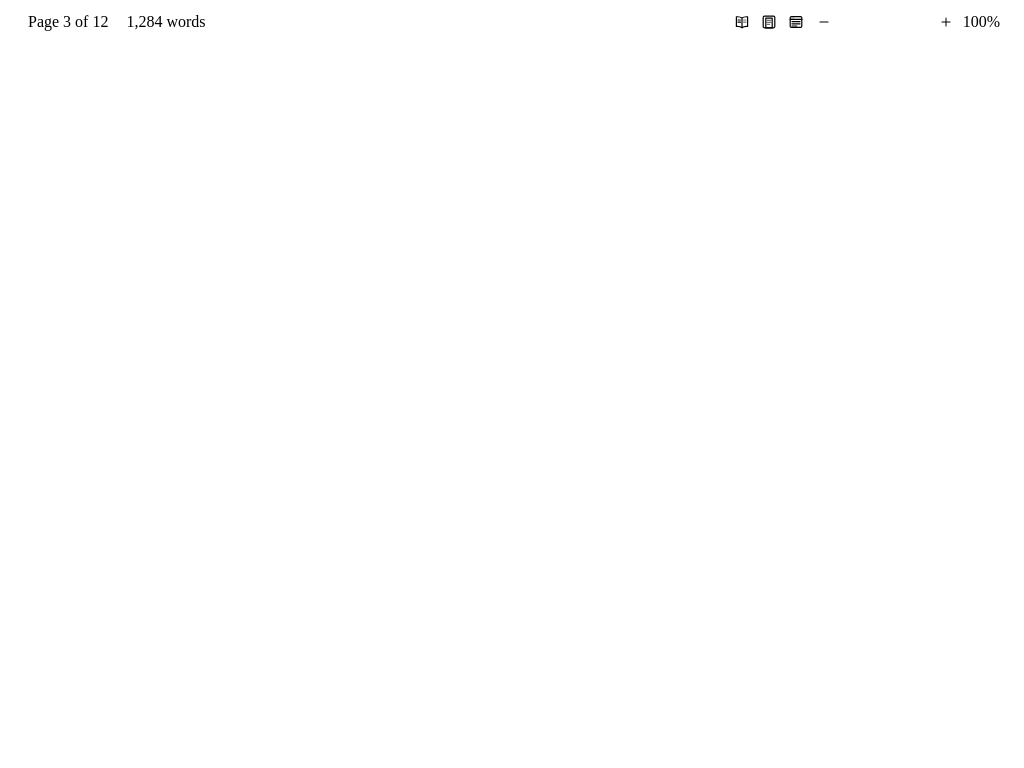
Test: StatusBar › opens the zoom popover with presets, fits and a custom percentage
Click the button named "Zoom level 100%" at [981, 22], box x1=955 y1=14 x2=1008 y2=30
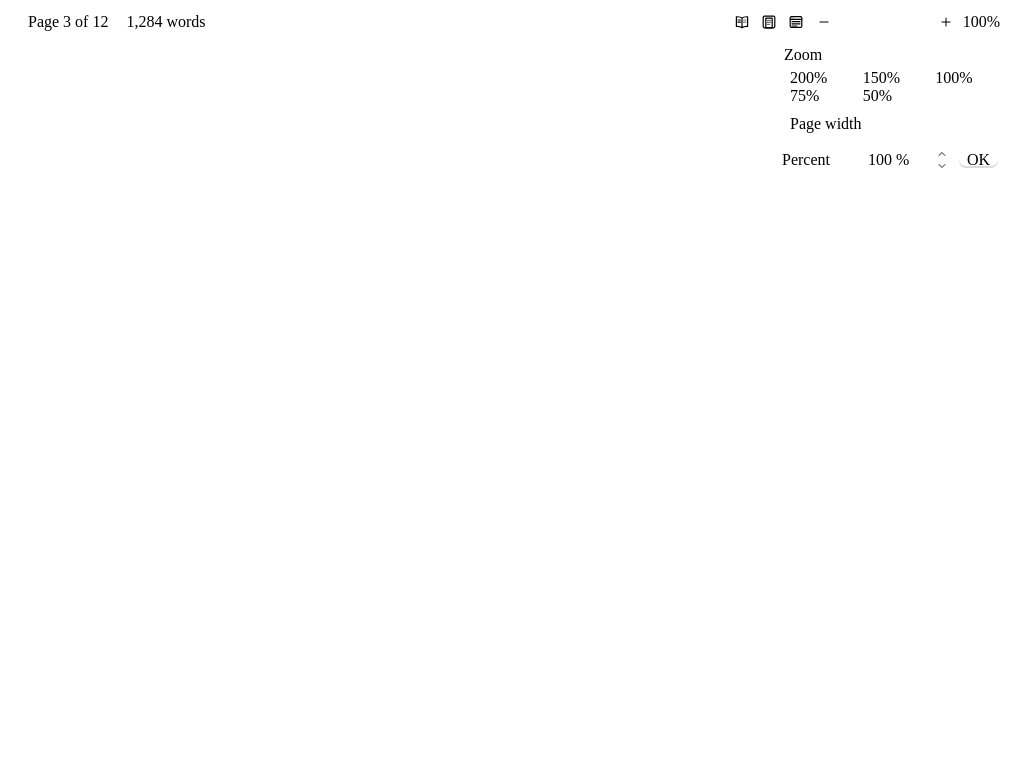
Click the button "200%" at [817, 78], box x1=782 y1=70 x2=853 y2=86
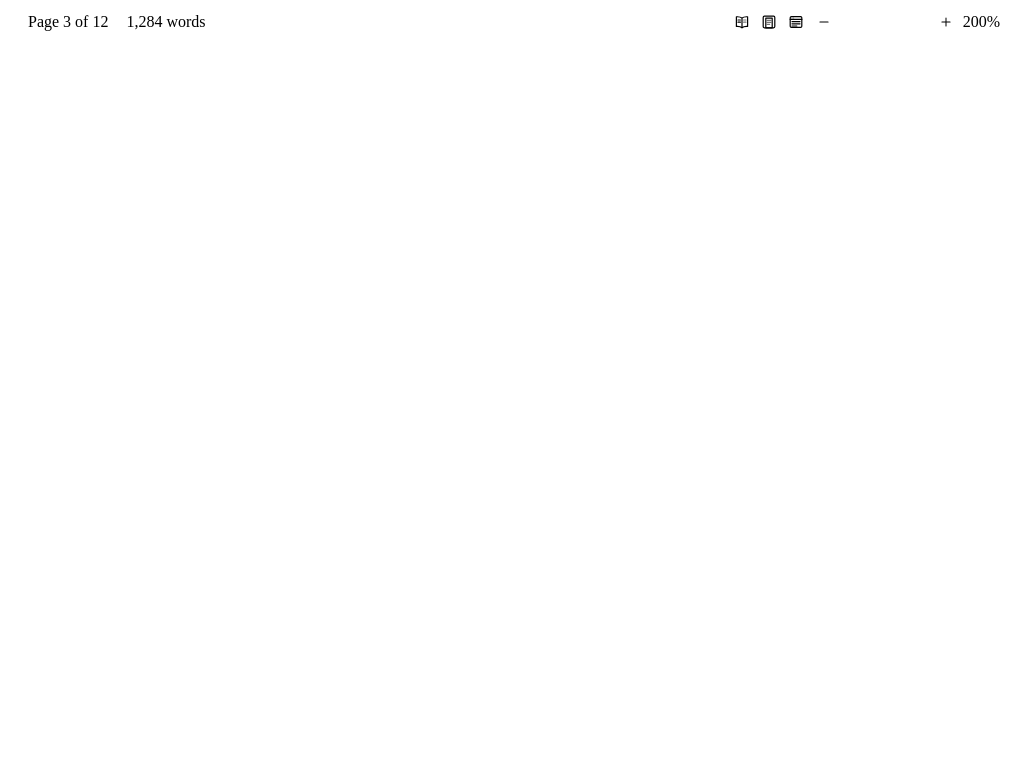
Check: the button named "Zoom level 200%" is shown
Click the button named "Zoom level 200%" at [981, 22], box x1=955 y1=14 x2=1008 y2=30
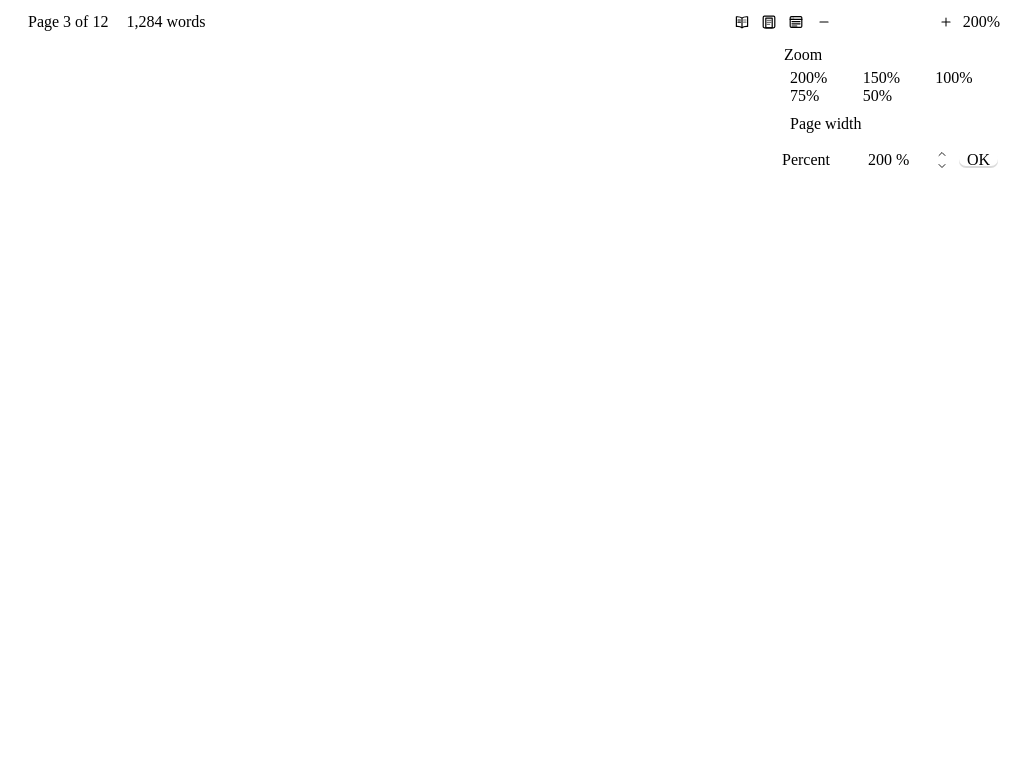
Click the button "Page width" at [890, 124], box x1=782 y1=116 x2=998 y2=132
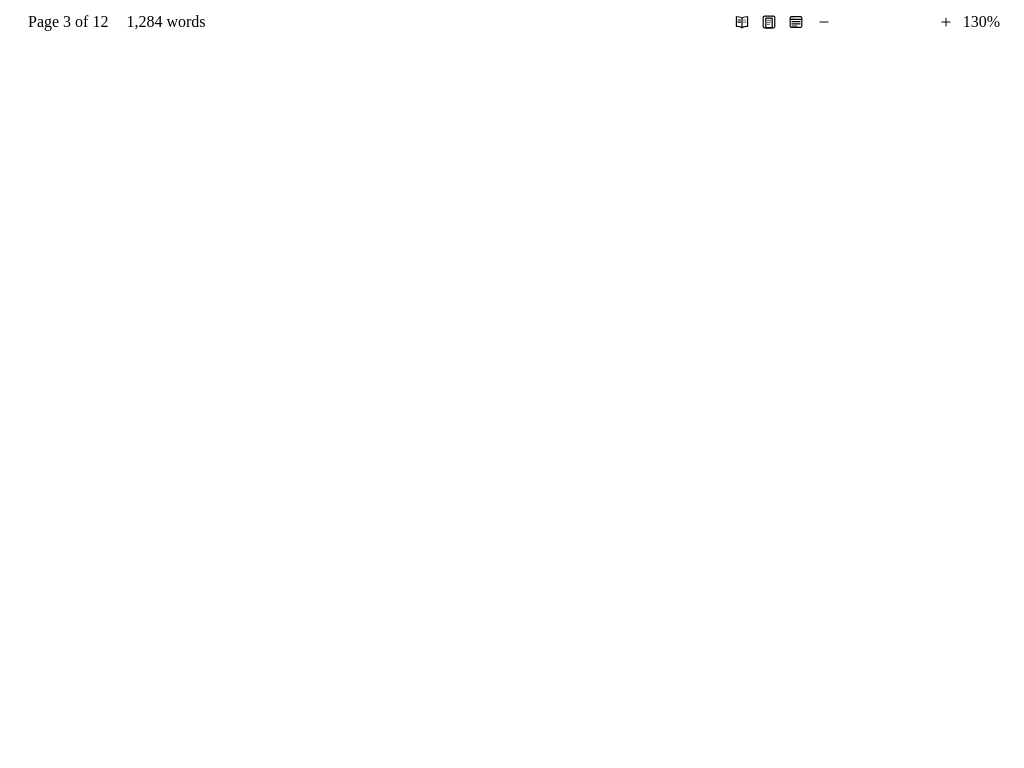
Check: the button named "Zoom level 130%" is shown
Click the button named "Zoom level 130%" at [981, 22], box x1=955 y1=14 x2=1008 y2=30
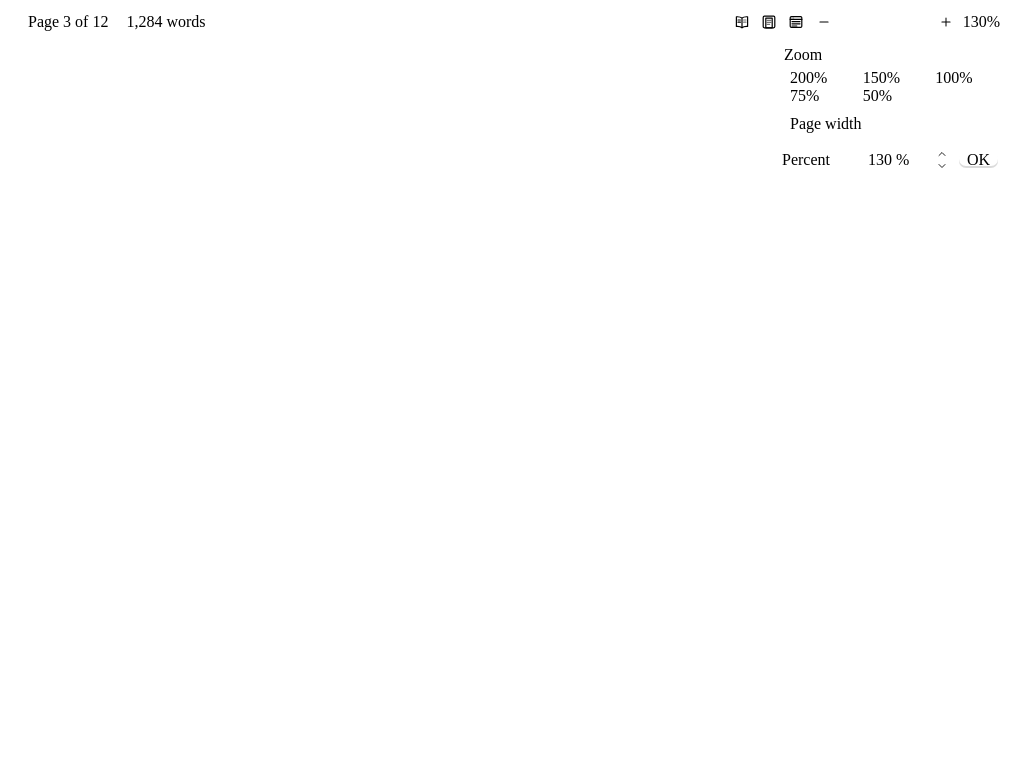
Replace the text in the number field labelled "Percent" with "65" at [896, 160], box x1=859 y1=151 x2=933 y2=169
Then press Enter
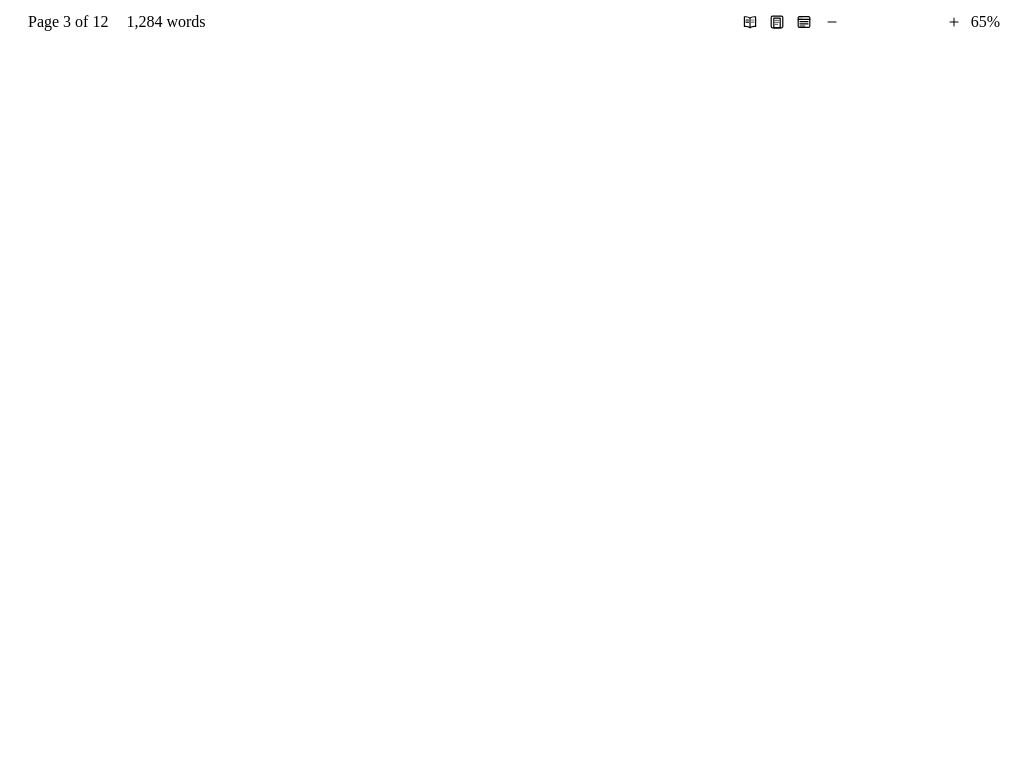
Check: the button named "Zoom level 65%" is shown, box x1=963 y1=14 x2=1008 y2=30
